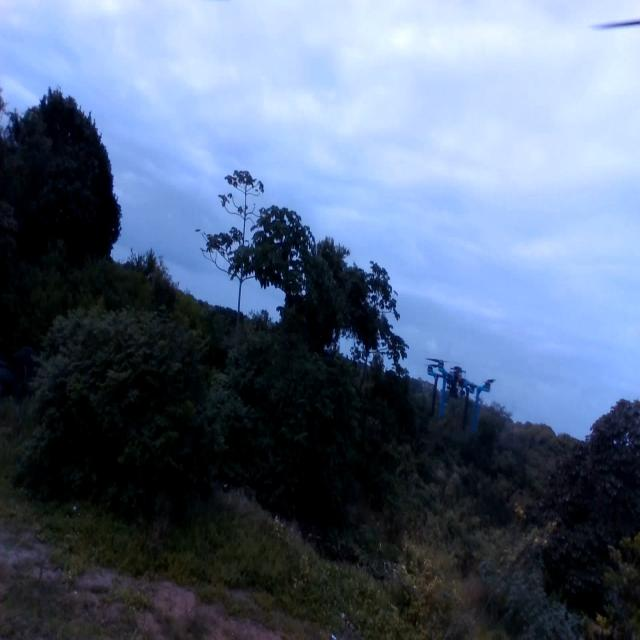-uav-: (425, 335, 498, 440)
